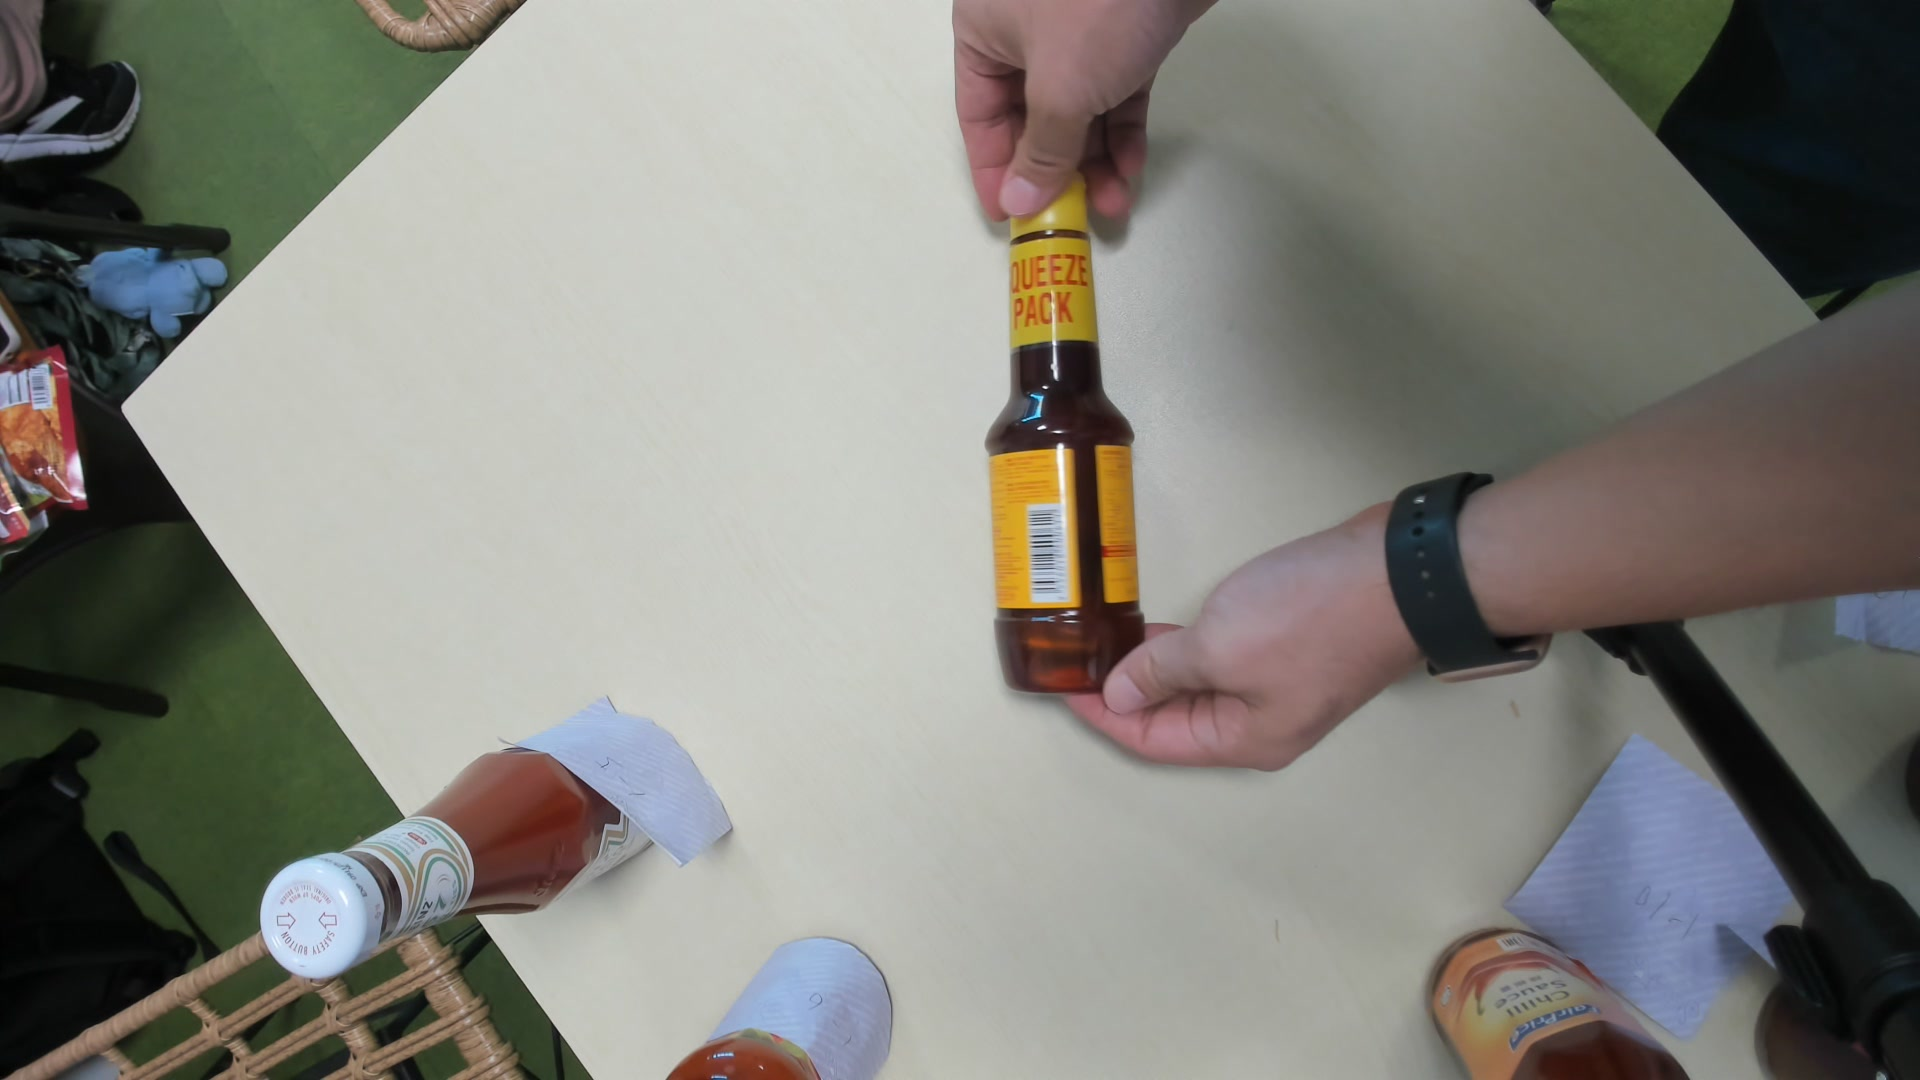KetchupChillSauce_300-399g_Halal_NonHealthy: (986, 171, 1150, 695)
